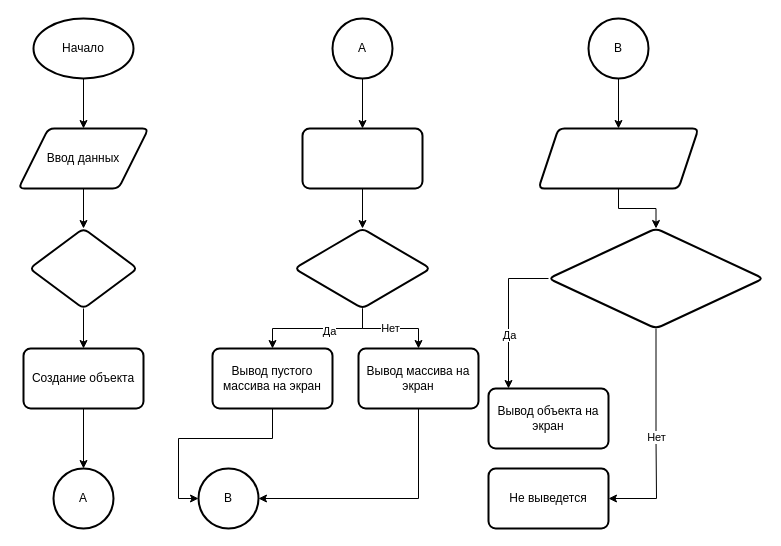
Image size: 781x546. Some labels were removed from this diagram. Here are the shapes that lost their labels. From the top down, the centre of each, then its label:
(x=362, y=158): Посмотреть содержимое массива
(x=618, y=158): Ввод одного свойства объекта
(x=83, y=268): Нажата кнопка
(x=362, y=268): Массив пустой?
(x=655, y=278): Существует объект с таким свойством?
